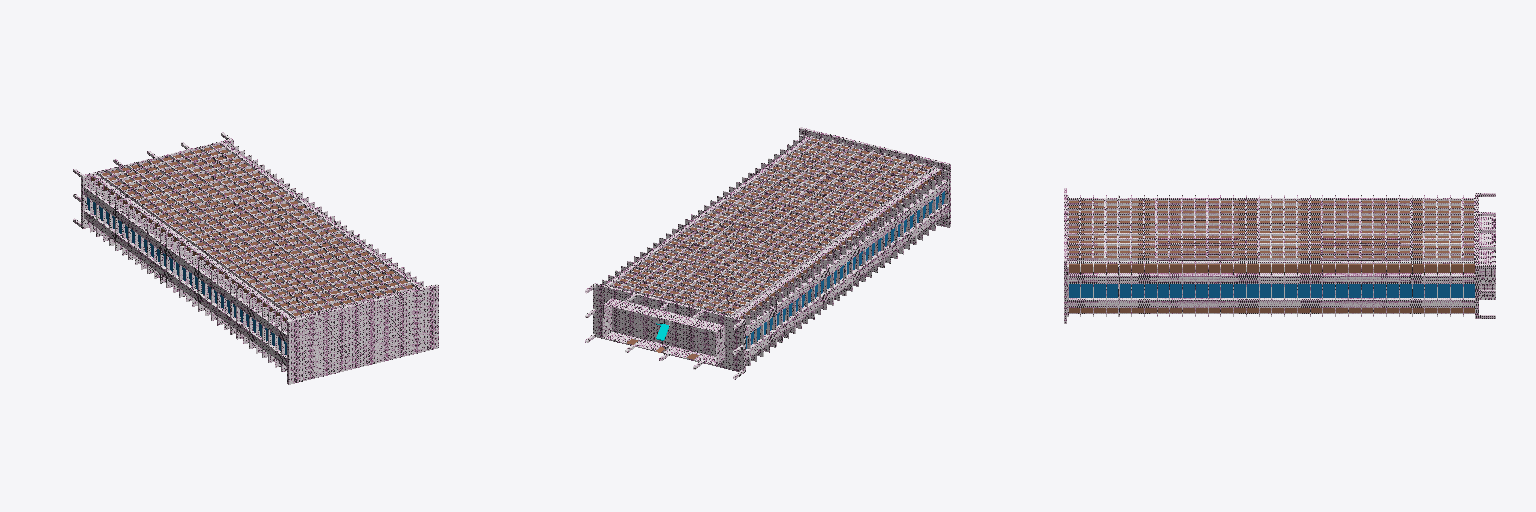
3 views of the same model, side by side, from view 1: azimuth 30°, elevation 25°; view 2: azimuth 150°, elevation 25°; view 3: azimuth 270°, elevation 25° (orthographic).
Visible parts, largest first — view 1: Wall_03, Wall_05, Wall_06, Door_01, Slab_02, Wall_04, Slab_01, Glass_01, Wall_01; view 2: Wall_03, Wall_05, Door_01, Wall_06, Slab_02, Slab_01, wall_2_01, Wall_04, Glass_01, Wall_01, Wall_02; view 3: Wall_03, Door_01, Glass_01, Slab_01, Wall_05, Wall_04, wall_2_01, Wall_01.
Boxes of the visible parts, box(x1,y1,x2,y2) form: Wall_03: box(84, 142, 418, 366); Wall_05: box(98, 142, 416, 317); Wall_06: box(83, 140, 438, 384); Door_01: box(91, 145, 412, 320); Slab_02: box(90, 146, 423, 371); Wall_04: box(92, 143, 420, 319); Slab_01: box(91, 146, 429, 371); Glass_01: box(87, 197, 286, 354); Wall_01: box(81, 139, 437, 384); Wall_03: box(609, 135, 948, 359); Wall_05: box(610, 140, 928, 315); Door_01: box(614, 139, 940, 318); Wall_06: box(593, 128, 949, 371); Slab_02: box(602, 135, 947, 365); Slab_01: box(602, 135, 948, 365); wall_2_01: box(603, 298, 724, 365); Wall_04: box(606, 137, 939, 317); Glass_01: box(746, 191, 944, 348); Wall_01: box(594, 127, 950, 372); Wall_02: box(585, 284, 743, 379); Wall_03: box(1067, 198, 1474, 307); Door_01: box(1069, 201, 1474, 312); Glass_01: box(1069, 284, 1474, 297); Slab_01: box(1067, 195, 1463, 316); Wall_05: box(1079, 199, 1474, 257); Wall_04: box(1069, 261, 1474, 313); wall_2_01: box(1479, 212, 1495, 299); Wall_01: box(1064, 188, 1478, 323).
Bounding box in the file's own units: 1636 × 655 × 4069.
Materials: 4 (1 with a texture image).